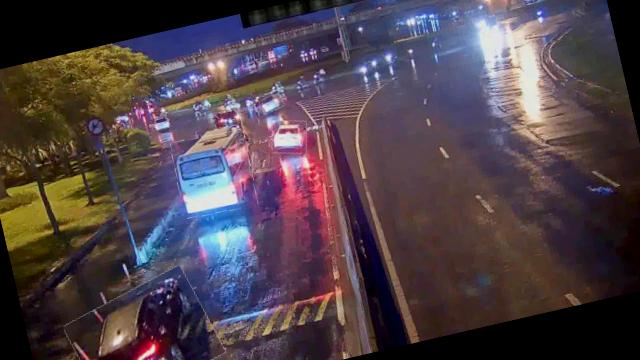Bus: (168, 127, 260, 220)
Car: (62, 268, 227, 360), (268, 115, 312, 158), (252, 90, 286, 115)
